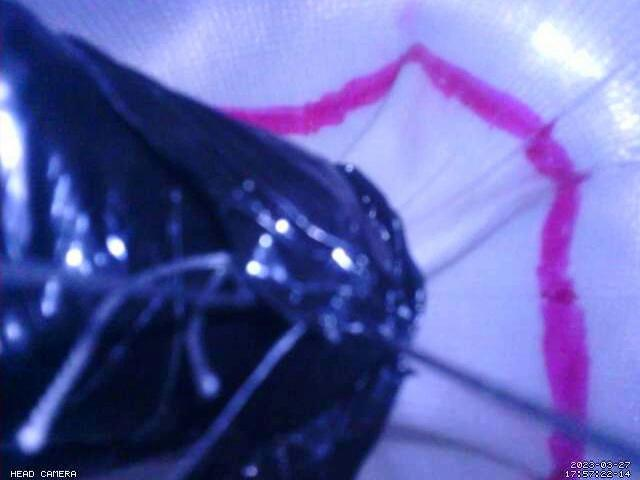red-circle: (218, 41, 591, 479)
